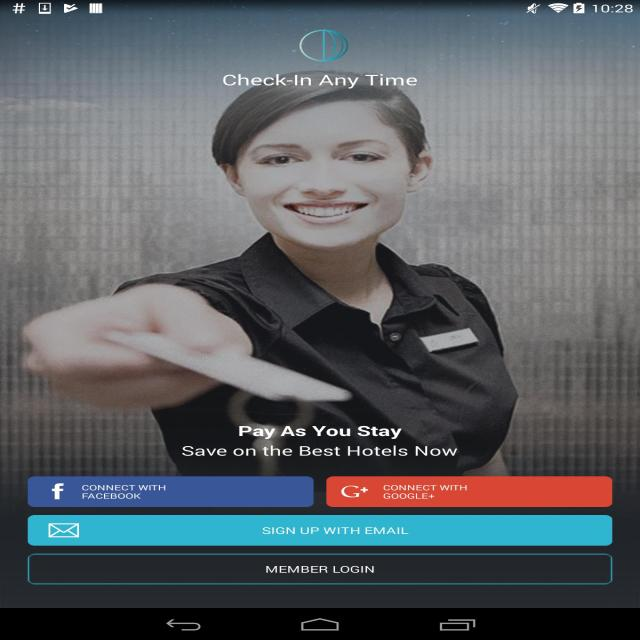button: (29, 513, 612, 546), (28, 554, 612, 584), (28, 474, 314, 508), (325, 475, 612, 508)
heading: (218, 72, 420, 91)
image: (1, 0, 640, 509), (291, 26, 357, 67)
text: (175, 440, 466, 462), (229, 418, 408, 440)
